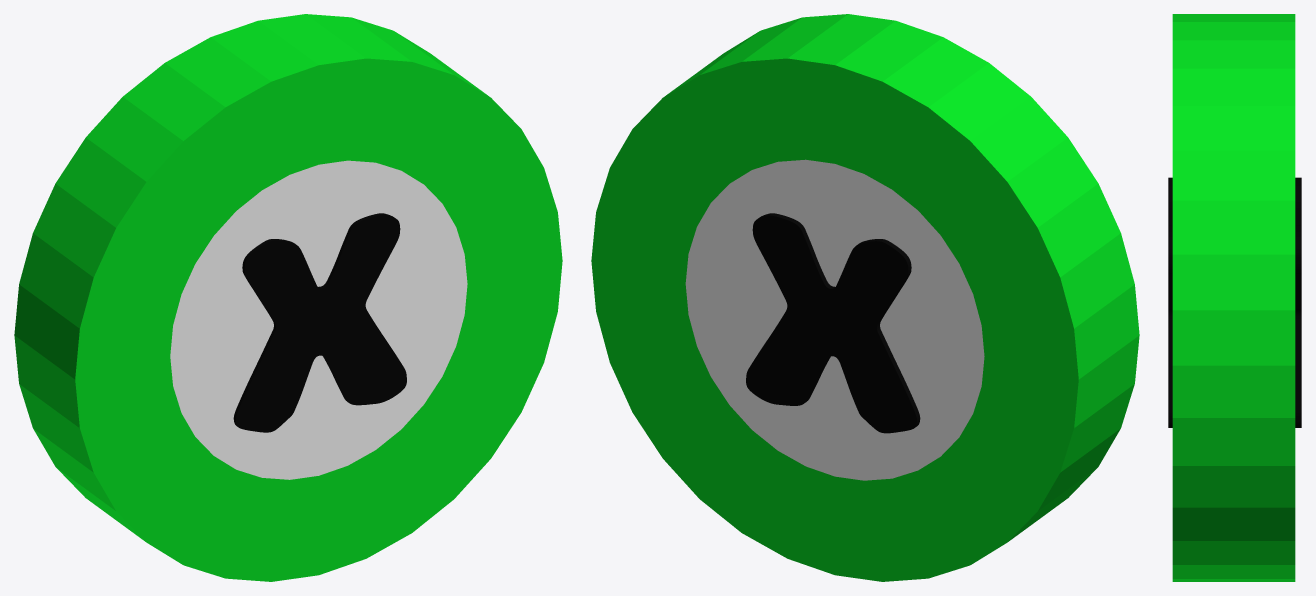
Rendered from Multiplier.fbx.
The picture shows the model from 3 angles, left to right: view 1: azimuth 30°, elevation 25°; view 2: azimuth 150°, elevation 25°; view 3: azimuth 270°, elevation 25°; orthographic projection.
Parts seen in each view (by area): view 1: Text.001; view 2: Text.001; view 3: Text.001.
Boxes of the visible parts, x1=… form: Text.001: x1=14, y1=14, x2=562, y2=581; Text.001: x1=591, y1=14, x2=1139, y2=581; Text.001: x1=1168, y1=14, x2=1301, y2=581.
Bounding box in the file's own units: 0.4647 × 0.4647 × 0.1091.
